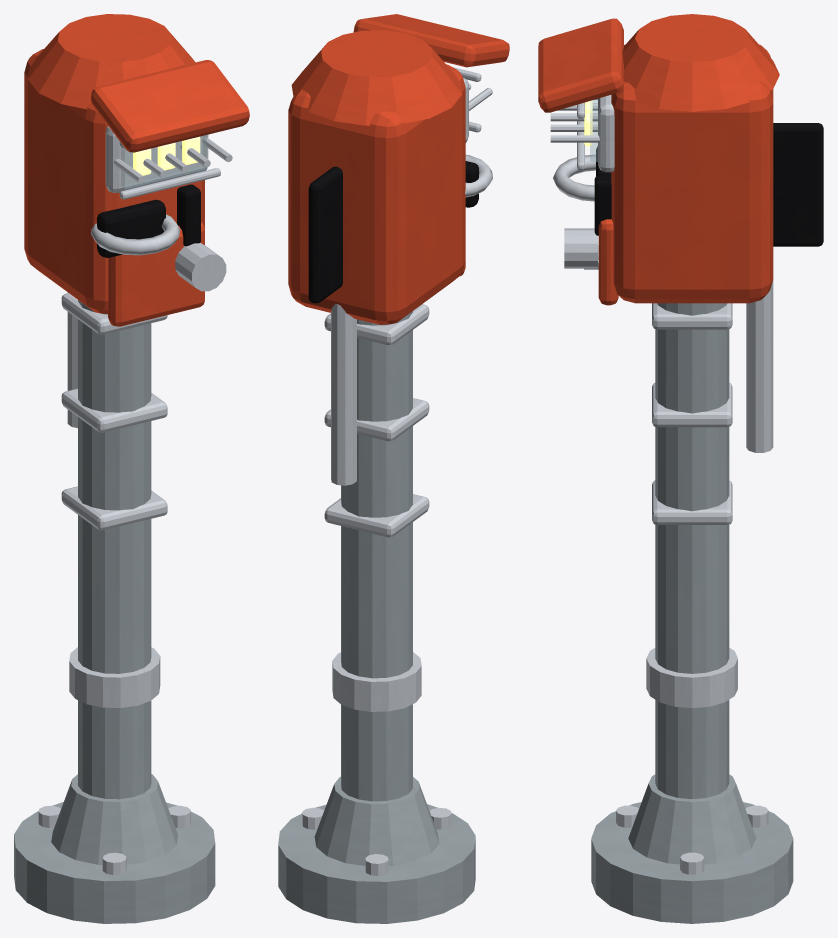
The model's file is prop_parking_meter.glb.
The picture shows the model from 3 angles, left to right: view 1: azimuth 30°, elevation 25°; view 2: azimuth 150°, elevation 25°; view 3: azimuth 270°, elevation 25°; orthographic projection.
Visible parts, largest first — view 1: prop_parking_meter_post, prop_parking_meter_head_body, prop_parking_meter_base, prop_parking_meter_solar_hood, prop_parking_meter_head_cap, prop_parking_meter_collar, prop_parking_meter_lower_door, prop_parking_meter_mid_band, prop_parking_meter_display_bezel, prop_parking_meter_card_pad, prop_parking_meter_post_band_1, prop_parking_meter_post_band_0 (+8 smaller); view 2: prop_parking_meter_head_body, prop_parking_meter_post, prop_parking_meter_base, prop_parking_meter_head_cap, prop_parking_meter_collar, prop_parking_meter_conduit, prop_parking_meter_service_panel, prop_parking_meter_solar_hood, prop_parking_meter_mid_band, prop_parking_meter_post_band_0, prop_parking_meter_post_band_1, prop_parking_meter_post_band_2 (+1 smaller); view 3: prop_parking_meter_head_body, prop_parking_meter_post, prop_parking_meter_base, prop_parking_meter_head_cap, prop_parking_meter_collar, prop_parking_meter_solar_hood, prop_parking_meter_service_panel, prop_parking_meter_conduit, prop_parking_meter_mid_band, prop_parking_meter_post_band_1, prop_parking_meter_post_band_0, prop_parking_meter_post_band_2 (+5 smaller).
Boxes of the visible parts, x1,y1,x2,y2 form: prop_parking_meter_post: (78,300,151,799); prop_parking_meter_head_body: (24,49,204,313); prop_parking_meter_base: (14,802,215,923); prop_parking_meter_solar_hood: (91,60,249,152); prop_parking_meter_head_cap: (28,14,195,109); prop_parking_meter_collar: (51,774,178,864); prop_parking_meter_lower_door: (108,222,204,326); prop_parking_meter_mid_band: (69,647,160,707); prop_parking_meter_display_bezel: (105,126,208,192); prop_parking_meter_card_pad: (97,199,165,257); prop_parking_meter_post_band_1: (61,388,167,432); prop_parking_meter_post_band_0: (61,486,167,530); prop_parking_meter_head_body: (288,64,465,324); prop_parking_meter_post: (341,311,412,801); prop_parking_meter_base: (278,804,475,923); prop_parking_meter_head_cap: (291,30,462,125); prop_parking_meter_collar: (314,776,439,865); prop_parking_meter_conduit: (331,304,356,485); prop_parking_meter_service_panel: (308,166,342,303); prop_parking_meter_solar_hood: (353,14,509,67); prop_parking_meter_mid_band: (332,652,421,711); prop_parking_meter_post_band_0: (324,494,429,537); prop_parking_meter_post_band_1: (324,398,429,441); prop_parking_meter_post_band_2: (324,304,429,345); prop_parking_meter_head_body: (611,44,773,303); prop_parking_meter_post: (655,303,729,799); prop_parking_meter_base: (591,802,793,923); prop_parking_meter_head_cap: (622,14,779,111); prop_parking_meter_collar: (628,774,756,864); prop_parking_meter_solar_hood: (538,18,623,112); prop_parking_meter_service_panel: (773,123,823,246); prop_parking_meter_conduit: (746,280,773,452); prop_parking_meter_mid_band: (646,647,737,708); prop_parking_meter_post_band_1: (652,383,732,427); prop_parking_meter_post_band_0: (652,480,732,524); prop_parking_meter_post_band_2: (652,303,732,329).
Size of the model in its own units: 0.3 by 1.38 by 0.4235.
7 materials, 5 textured.
